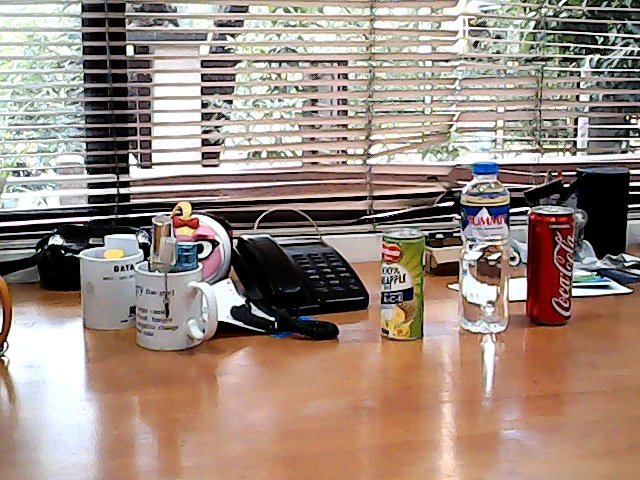Cola: (517, 202, 588, 334)
Pine Juice: (367, 217, 431, 351)
Summit Water: (450, 155, 525, 341)
